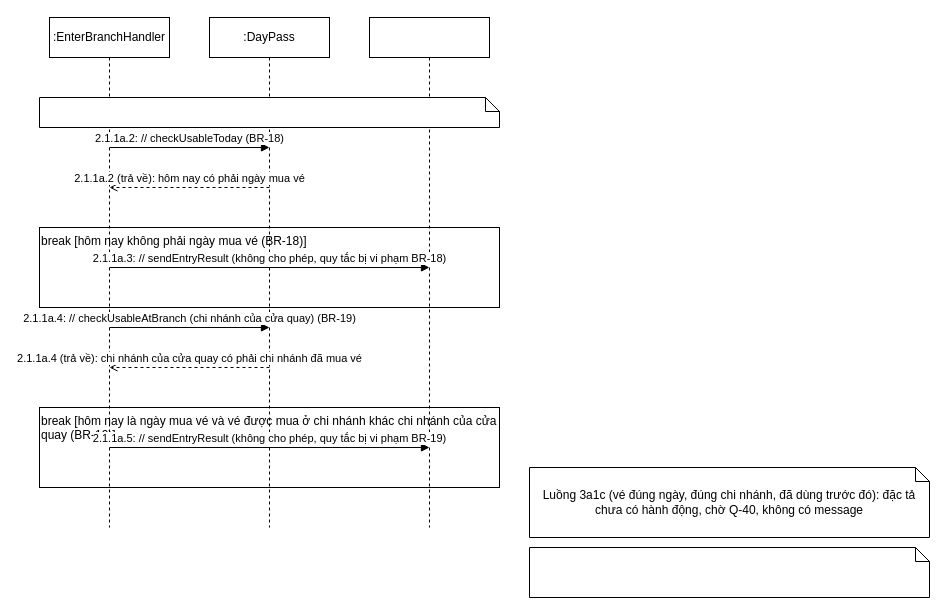
The diagram is 947 pixels wide and 615 high, and some of its shapes have lost their labels. The centre of each missing label's shape, as x and y in pixels:
":TurnstileDevice" goes at pixel 429 272.
"Tiếp theo SD2a, sau message 2.1.1a.1 khi mã QR khớp một vé" goes at pixel 269 112.
"Vé dùng được: tiếp tục luồng chính từ message 2.1.7 (bước 6) ở SD1c" goes at pixel 729 572.
